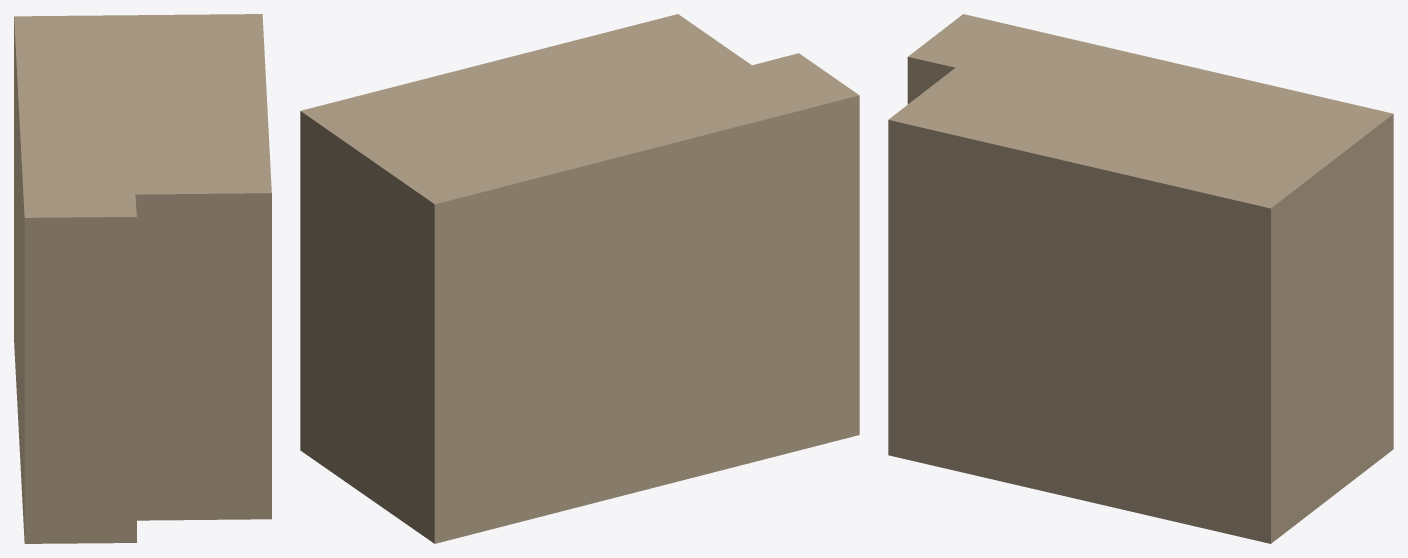
The model's file is bld_99549168.dae.
The picture shows the model from 3 angles, left to right: view 1: azimuth 30°, elevation 25°; view 2: azimuth 150°, elevation 25°; view 3: azimuth 270°, elevation 25°; orthographic projection. The views are drawn at different scales.
Parts seen in each view (by area): view 1: bld_99549168; view 2: bld_99549168; view 3: bld_99549168.
Part boxes in pixels (left/top/right/bottom): bld_99549168: left=14, top=14, right=271, bottom=543; bld_99549168: left=300, top=14, right=859, bottom=543; bld_99549168: left=888, top=14, right=1393, bottom=543.
Bounding box in the file's own units: 9.95 × 10.93 × 8.
